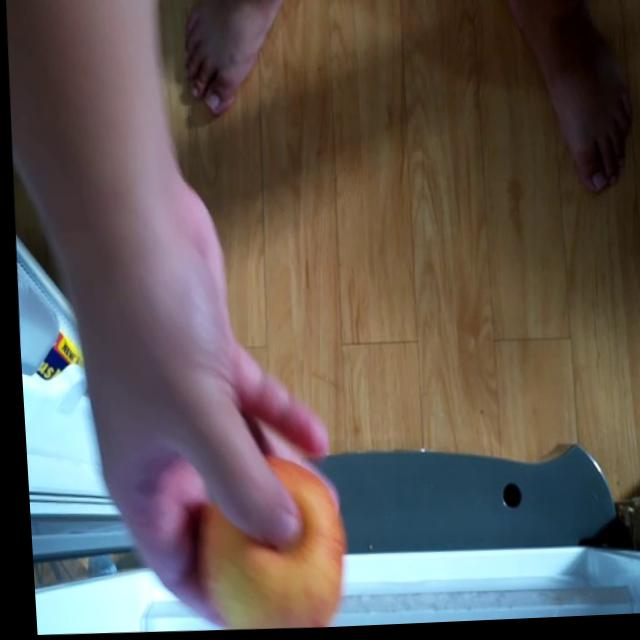apple: (189, 457, 346, 631)
